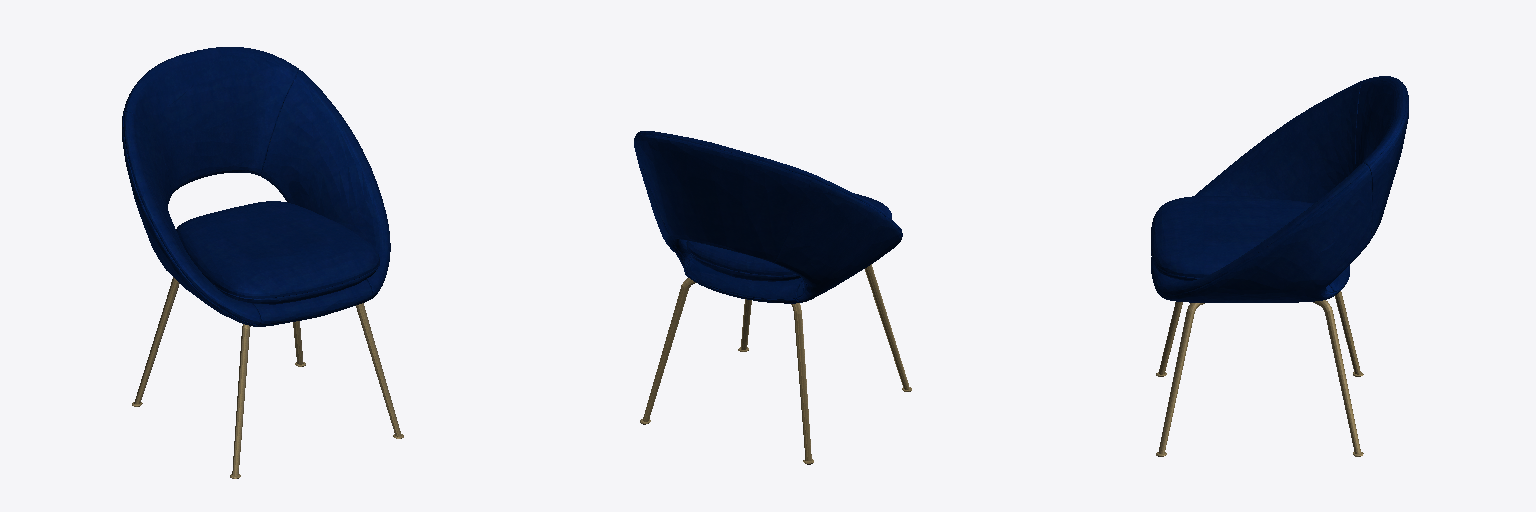
3 views of the same model, side by side, from view 1: azimuth 30°, elevation 25°; view 2: azimuth 150°, elevation 25°; view 3: azimuth 270°, elevation 25° (orthographic).
Parts seen in each view (by area): view 1: solid_001, solid_002; view 2: solid_001, solid_002; view 3: solid_001, solid_002.
Boxes of the visible parts, <box> form: solid_001: <box>122,47,390,326</box>; solid_002: <box>132,277,403,478</box>; solid_001: <box>634,131,902,303</box>; solid_002: <box>640,264,911,463</box>; solid_001: <box>1151,76,1408,302</box>; solid_002: <box>1156,291,1363,456</box>.
Size of the model in its own units: 1.07 by 1.46 by 1.08.
1 materials, 1 textured.